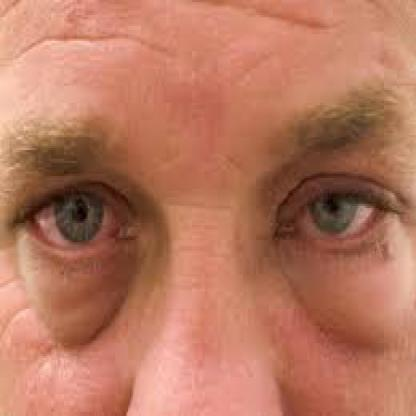darkspot: (45, 0, 324, 354)
